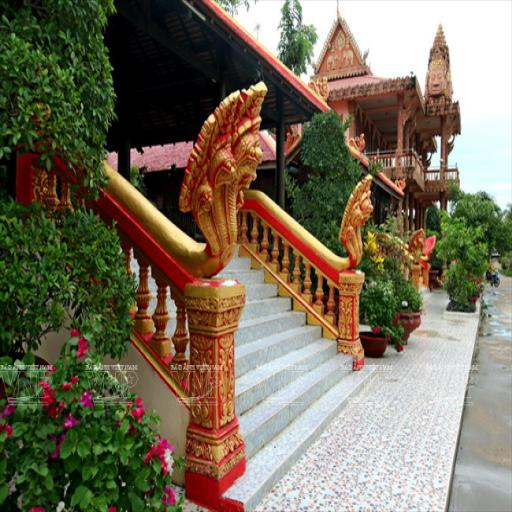la: (174, 78, 270, 290), (322, 173, 386, 279)
